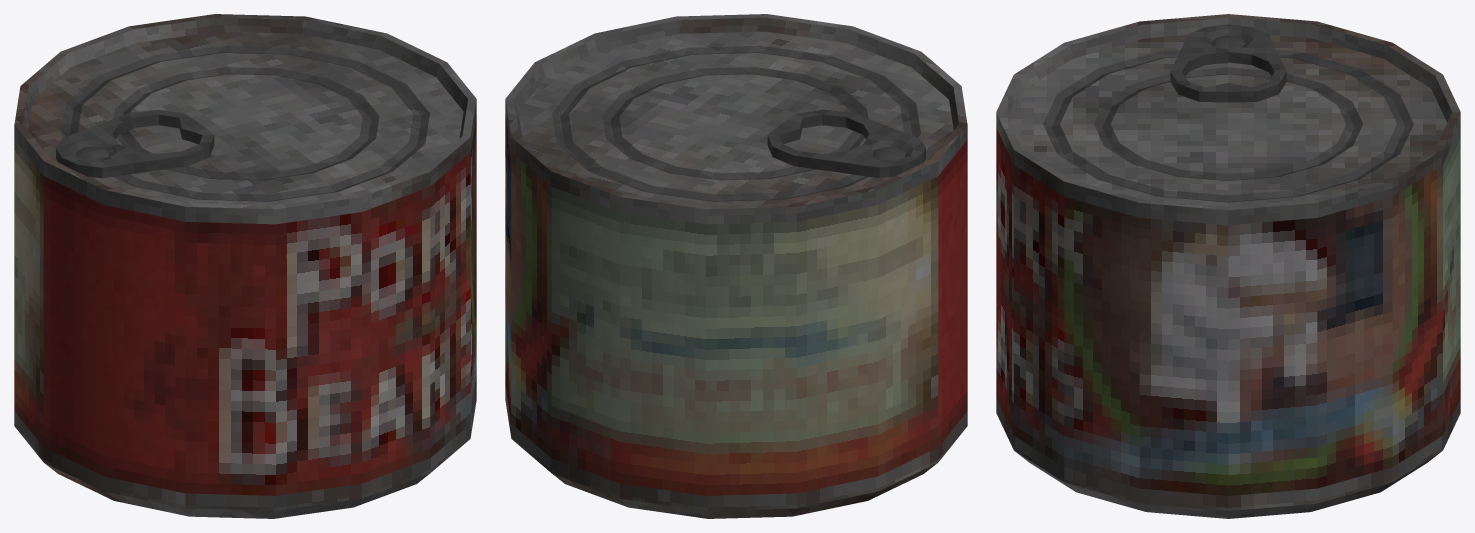
File: canned_food_4.glb
3 renders of one model, left to right at view 1: azimuth 30°, elevation 25°; view 2: azimuth 150°, elevation 25°; view 3: azimuth 270°, elevation 25°, orthographic.
Visible parts, largest first — view 1: canned_food_4; view 2: canned_food_4; view 3: canned_food_4.
Part boxes in pixels (x1=…): canned_food_4: x1=14, y1=14, x2=476, y2=518; canned_food_4: x1=505, y1=14, x2=967, y2=518; canned_food_4: x1=996, y1=14, x2=1460, y2=518.
Size of the model in its own units: 0.112 by 0.084 by 0.112.
Materials: 3 (3 with a texture image).
